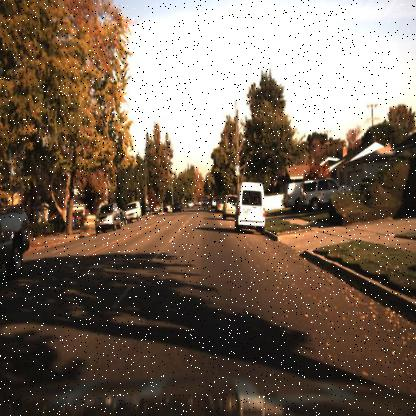car: (1, 202, 30, 281), (233, 178, 269, 235), (300, 172, 353, 208), (234, 180, 267, 234), (93, 200, 119, 236), (277, 176, 301, 212), (282, 178, 300, 216), (222, 189, 237, 223), (123, 198, 142, 224), (125, 198, 143, 225), (119, 203, 128, 229), (214, 194, 224, 217)
